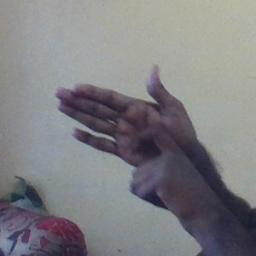R: (55, 61, 196, 206)
